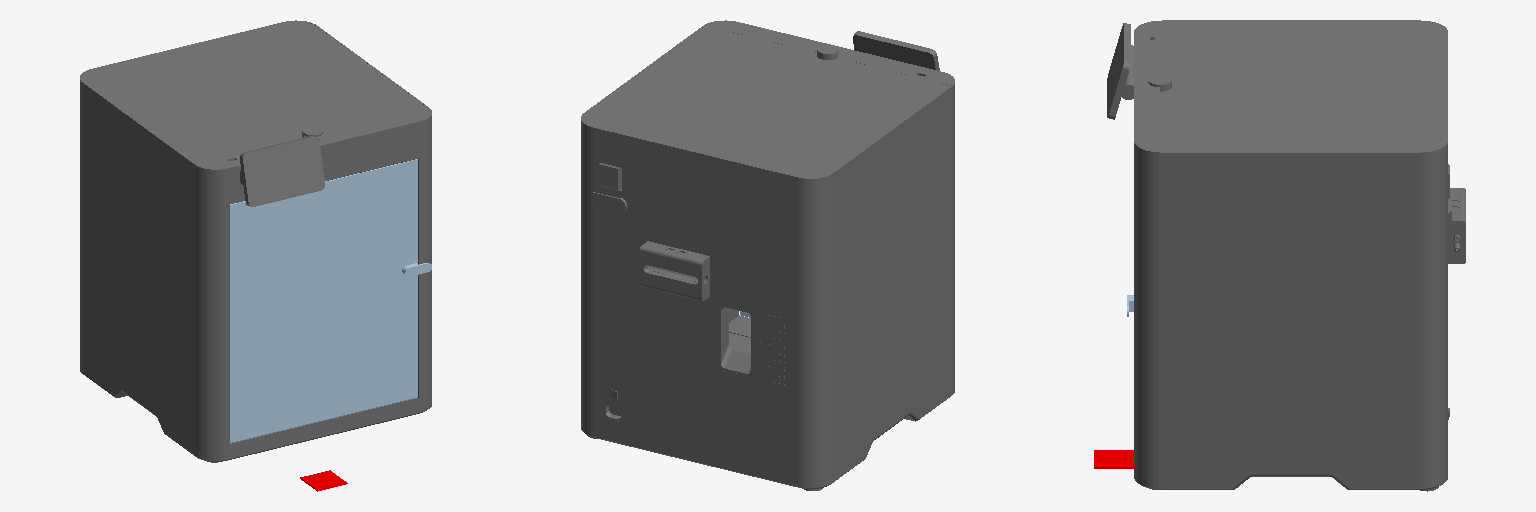
robot.urdf — BAMBULAB_P2S:
<?xml version="1.0" ?>
<!--
  Pre-processed URDF for Bambu Lab P2S printer.
  Generated from BAMBULAB_P2S.xacro with all includes inlined
  and package:// mesh paths converted to relative paths.

  Links: base_link, Z_bed_1, Y_axis_1, X_axis_nozzle_1, Door_1
  Joints: Z_axis (prismatic), Y_axis (prismatic), X_axis (prismatic), door_hinge (revolute)

  Mesh scale 0.001 — original meshes are in millimeters.
-->
<robot name="BAMBULAB_P2S">

  <!-- ── Materials (inlined from materials.xacro) ────────────────────────── -->
  <material name="silver">
    <color rgba="0.500 0.500 0.500 1.000"/>
  </material>
  <material name="glass">
    <color rgba="0.750 0.850 0.950 0.250"/>
  </material>

  <!-- ── base_link: Static printer body ──────────────────────────────────── -->
  <link name="base_link">
    <inertial>
      <origin xyz="0.21251632537877285 0.2681457970411163 0.30367863645273874" rpy="0 0 0"/>
      <mass value="144.76072983211262"/>
      <inertia ixx="6.607565" iyy="7.040119" izz="5.4012" ixy="-0.029571" iyz="0.186731" ixz="0.015142"/>
    </inertial>
    <visual>
      <origin xyz="0 0 0" rpy="0 0 0"/>
      <geometry>
        <mesh filename="../meshes/base_link.stl" scale="0.001 0.001 0.001"/>
      </geometry>
      <material name="silver"/>
    </visual>
    <collision>
      <origin xyz="0 0 0" rpy="0 0 0"/>
      <geometry>
        <mesh filename="../meshes/base_link.stl" scale="0.001 0.001 0.001"/>
      </geometry>
    </collision>
  </link>

  <!-- ── Z_bed: Build plate, moves on Z axis ─────────────────────────────── -->
  <link name="Z_bed_1">
    <inertial>
      <origin xyz="0.08596271129982927 0.0918236657916594 -0.05094513028013968" rpy="0 0 0"/>
      <mass value="10.019848039853946"/>
      <inertia ixx="0.064602" iyy="0.080198" izz="0.144424" ixy="-8.3e-05" iyz="0.0" ixz="0.0"/>
    </inertial>
    <visual>
      <origin xyz="-0.126543 -0.173367 -0.157117" rpy="0 0 0"/>
      <geometry>
        <mesh filename="../meshes/Z_bed_1.stl" scale="0.001 0.001 0.001"/>
      </geometry>
      <material name="silver"/>
    </visual>
    <collision>
      <origin xyz="-0.126543 -0.173367 -0.157117" rpy="0 0 0"/>
      <geometry>
        <mesh filename="../meshes/Z_bed_1.stl" scale="0.001 0.001 0.001"/>
      </geometry>
    </collision>
  </link>

  <!-- ── Y_axis: Gantry Y motion ─────────────────────────────────────────── -->
  <link name="Y_axis_1">
    <inertial>
      <origin xyz="0.062419804737599976 -0.05776411722454011 -0.07414777976544817" rpy="0 0 0"/>
      <mass value="1.2845247547395635"/>
      <inertia ixx="0.000542" iyy="0.022739" izz="0.022652" ixy="0.0" iyz="-0.0" ixz="-0.0"/>
    </inertial>
    <visual>
      <origin xyz="-0.15016 -0.450867 -0.554722" rpy="0 0 0"/>
      <geometry>
        <mesh filename="../meshes/Y_axis_1.stl" scale="0.001 0.001 0.001"/>
      </geometry>
      <material name="silver"/>
    </visual>
    <collision>
      <origin xyz="-0.15016 -0.450867 -0.554722" rpy="0 0 0"/>
      <geometry>
        <mesh filename="../meshes/Y_axis_1.stl" scale="0.001 0.001 0.001"/>
      </geometry>
    </collision>
  </link>

  <!-- ── X_axis nozzle: Gantry X motion (child of Y_axis) ────────────────── -->
  <link name="X_axis_nozzle_1">
    <inertial>
      <origin xyz="0.01995246450171534 -0.014186409462614735 -0.02101543607495132" rpy="0 0 0"/>
      <mass value="0.675060661578604"/>
      <inertia ixx="0.00026" iyy="0.000242" izz="0.000193" ixy="-0.0" iyz="-6e-06" ixz="-1e-06"/>
    </inertial>
    <visual>
      <origin xyz="-0.08758 -0.393103 -0.501277" rpy="0 0 0"/>
      <geometry>
        <mesh filename="../meshes/X_axis_nozzle_1.stl" scale="0.001 0.001 0.001"/>
      </geometry>
      <material name="silver"/>
    </visual>
    <collision>
      <origin xyz="-0.08758 -0.393103 -0.501277" rpy="0 0 0"/>
      <geometry>
        <mesh filename="../meshes/X_axis_nozzle_1.stl" scale="0.001 0.001 0.001"/>
      </geometry>
    </collision>
  </link>

  <!-- ── Door: Front door (revolute from base_link) ──────────────────────── -->
  <link name="Door_1">
    <inertial>
      <origin xyz="0.03 -0.03 0" rpy="0 0 0"/>
      <mass value="1.8912702022608048"/>
      <inertia ixx="0.02213" iyy="0.03801" izz="0.015883" ixy="2.6e-05" iyz="3e-06" ixz="-8.5e-05"/>
    </inertial>
    <visual>
      <origin xyz="0.03 -0.03 0" rpy="0 0 0"/>
      <geometry>
        <mesh filename="../meshes/Door_1.stl" scale="0.001 0.001 0.001"/>
      </geometry>
      <material name="glass"/>
    </visual>
    <collision>
      <origin xyz="0.03 -0.03 0" rpy="0 0 0"/>
      <geometry>
        <mesh filename="../meshes/Door_1.stl" scale="0.001 0.001 0.001"/>
      </geometry>
    </collision>
  </link>

  <!-- ── Interior light mount points (fixed to base_link, top corners) ──── -->
  <link name="light_l_link">
    <inertial>
      <mass value="0.001"/>
      <origin xyz="0 0 0" rpy="0 0 0"/>
      <inertia ixx="1e-8" ixy="0" ixz="0" iyy="1e-8" iyz="0" izz="1e-8"/>
    </inertial>
  </link>
  <link name="light_r_link">
    <inertial>
      <mass value="0.001"/>
      <origin xyz="0 0 0" rpy="0 0 0"/>
      <inertia ixx="1e-8" ixy="0" ixz="0" iyy="1e-8" iyz="0" izz="1e-8"/>
    </inertial>
  </link>

  <!-- ── Door Handle Marker (visual-only ArUco reference) ─────────────── -->
  <link name="door_handle_marker">
    <inertial>
      <mass value="0.001"/>
      <origin xyz="0 0 0" rpy="0 0 0"/>
      <inertia ixx="1e-8" ixy="0" ixz="0" iyy="1e-8" iyz="0" izz="1e-8"/>
    </inertial>
    <visual>
      <geometry>
        <box size="0.05 0.05 0.002"/>
      </geometry>
      <material name="marker_red"/>
    </visual>
  </link>

  <material name="marker_red">
    <color rgba="1.0 0.0 0.0 1.0"/>
  </material>

  <!-- ── Joints ──────────────────────────────────────────────────────────── -->

  <joint name="Z_axis" type="prismatic">
    <origin xyz="0.126543 0.173367 0.157117" rpy="0 0 0"/>
    <parent link="base_link"/>
    <child link="Z_bed_1"/>
    <axis xyz="0.0 0.0 -1.0"/>
    <limit upper="0.0" lower="-0.31" effort="100" velocity="100"/>
  </joint>

  <joint name="Y_axis" type="prismatic">
    <origin xyz="0.15016 0.450867 0.554722" rpy="0 0 0"/>
    <parent link="base_link"/>
    <child link="Y_axis_1"/>
    <axis xyz="0.0 1.0 0.0"/>
    <limit upper="0.0" lower="-0.25" effort="100" velocity="100"/>
  </joint>

  <joint name="X_axis" type="prismatic">
    <origin xyz="-0.06258 -0.057764 -0.053445" rpy="0 0 0"/>
    <parent link="Y_axis_1"/>
    <child link="X_axis_nozzle_1"/>
    <axis xyz="-1.0 0.0 0.0"/>
    <limit upper="0.0" lower="-0.21" effort="100" velocity="100"/>
  </joint>

  <!-- Door hinge — renamed from "Revolute 8" for cleaner referencing -->
  <joint name="door_hinge" type="revolute">
    <origin xyz="-0.03 0.03 0" rpy="0 0 0"/>
    <parent link="base_link"/>
    <child link="Door_1"/>
    <axis xyz="0.0 0.0 -1.0"/>
    <limit upper="3.141593" lower="0.0" effort="100" velocity="100"/>
  </joint>

  <!-- Door handle marker position: on the door face, opposite side from hinge -->
  <joint name="marker_joint" type="fixed">
    <parent link="Door_1"/>
    <child link="door_handle_marker"/>
    <origin xyz="0.15 -0.03 -0.05" rpy="0 0 0"/>
  </joint>

  <!-- Interior light mounts: top-front corners, symmetric about printer center -->
  <joint name="light_l_joint" type="fixed">
    <parent link="base_link"/>
    <child link="light_l_link"/>
    <origin xyz="-0.04 0.10 0.45" rpy="0 0 0"/>
  </joint>
  <joint name="light_r_joint" type="fixed">
    <parent link="base_link"/>
    <child link="light_r_link"/>
    <origin xyz="0.31 0.10 0.45" rpy="0 0 0"/>
  </joint>

  <!-- ── Transmissions (inlined from BAMBULAB_P2S.trans) ──────────────────── -->

  <transmission name="Z_axis_tran">
    <type>transmission_interface/SimpleTransmission</type>
    <joint name="Z_axis">
      <hardwareInterface>hardware_interface/EffortJointInterface</hardwareInterface>
    </joint>
    <actuator name="Z_axis_actr">
      <hardwareInterface>hardware_interface/EffortJointInterface</hardwareInterface>
      <mechanicalReduction>1</mechanicalReduction>
    </actuator>
  </transmission>

  <transmission name="Y_axis_tran">
    <type>transmission_interface/SimpleTransmission</type>
    <joint name="Y_axis">
      <hardwareInterface>hardware_interface/EffortJointInterface</hardwareInterface>
    </joint>
    <actuator name="Y_axis_actr">
      <hardwareInterface>hardware_interface/EffortJointInterface</hardwareInterface>
      <mechanicalReduction>1</mechanicalReduction>
    </actuator>
  </transmission>

  <transmission name="X_axis_tran">
    <type>transmission_interface/SimpleTransmission</type>
    <joint name="X_axis">
      <hardwareInterface>hardware_interface/EffortJointInterface</hardwareInterface>
    </joint>
    <actuator name="X_axis_actr">
      <hardwareInterface>hardware_interface/EffortJointInterface</hardwareInterface>
      <mechanicalReduction>1</mechanicalReduction>
    </actuator>
  </transmission>

  <transmission name="door_hinge_tran">
    <type>transmission_interface/SimpleTransmission</type>
    <joint name="door_hinge">
      <hardwareInterface>hardware_interface/EffortJointInterface</hardwareInterface>
    </joint>
    <actuator name="door_hinge_actr">
      <hardwareInterface>hardware_interface/EffortJointInterface</hardwareInterface>
      <mechanicalReduction>1</mechanicalReduction>
    </actuator>
  </transmission>

</robot>

--- What the picture shows (computed from the rendered views, not written in the file) ---
Views: 3 orthographic renders of the robot side by side, from view 1: azimuth 30°, elevation 25°; view 2: azimuth 150°, elevation 25°; view 3: azimuth 270°, elevation 25°.
Model BAMBULAB_P2S with 8 links and 7 joints (1 revolute, 3 prismatic, 3 fixed), rooted at base_link, posed all joints at 0.
Links seen in each view (by area): view 1: base_link, Door_1, door_handle_marker; view 2: base_link; view 3: base_link, door_handle_marker.
Boxes of the visible links, x1,y1,x2,y2 form: base_link: (80, 20, 431, 462); Door_1: (229, 159, 431, 442); door_handle_marker: (300, 470, 347, 491); base_link: (581, 20, 954, 490); base_link: (1107, 20, 1465, 491); door_handle_marker: (1094, 450, 1133, 468).
Bounding box of the posed robot: 0.39 × 0.4648 × 0.545 m (x, y, z).
Meshes: 5 distinct files referenced, 4 mesh visuals loaded (4 binary STL); not drawn: 1 (reference not matched to a file when rendering).
